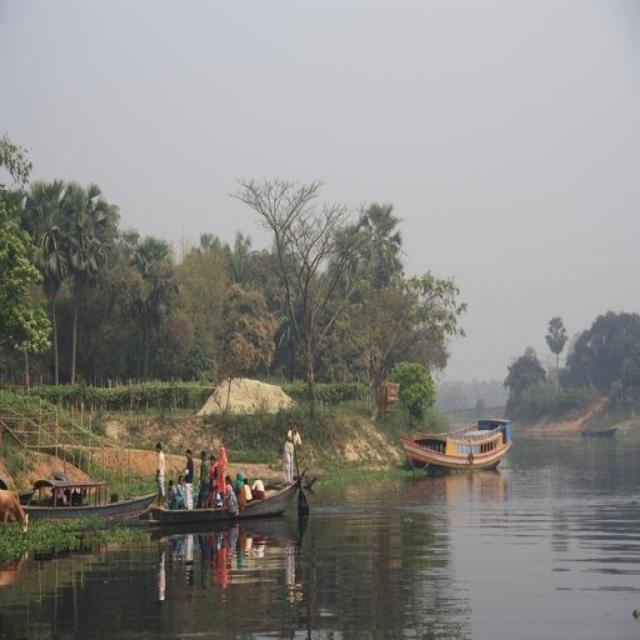Hyacinth: (4, 521, 126, 559), (331, 467, 387, 482), (403, 516, 418, 525)
boat: (397, 419, 522, 474), (0, 488, 159, 522), (151, 500, 239, 530), (578, 423, 622, 441)
